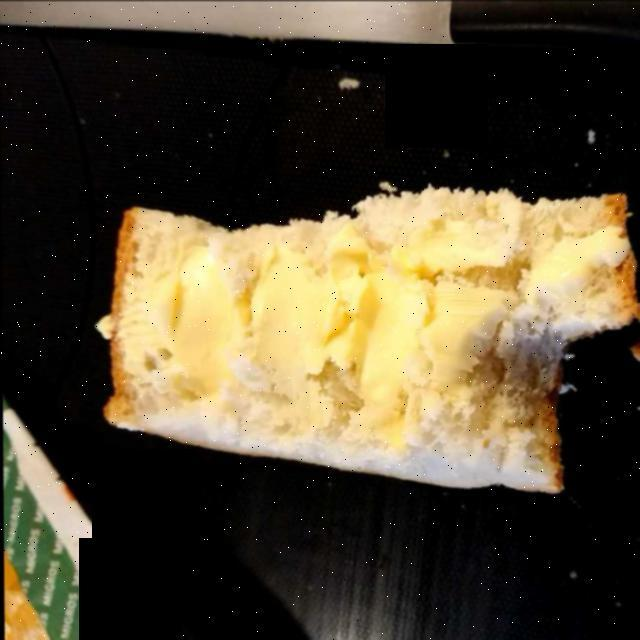bread: (109, 194, 610, 486)
butter: (110, 210, 624, 418)
